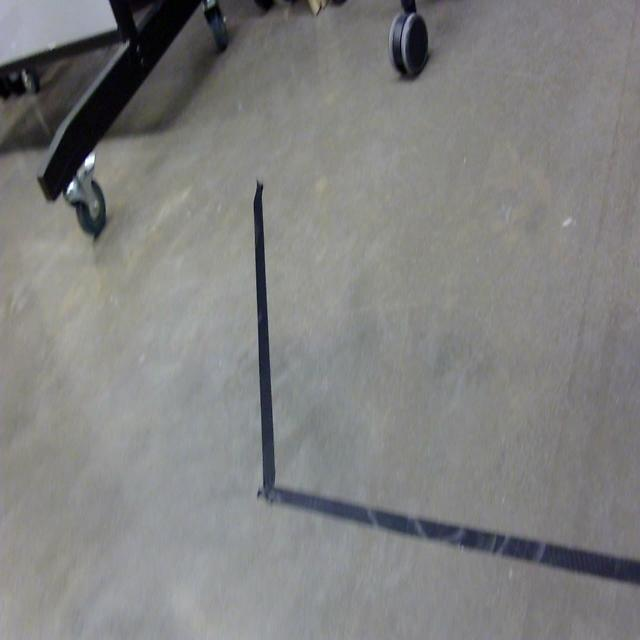tape: (252, 183, 640, 585)
